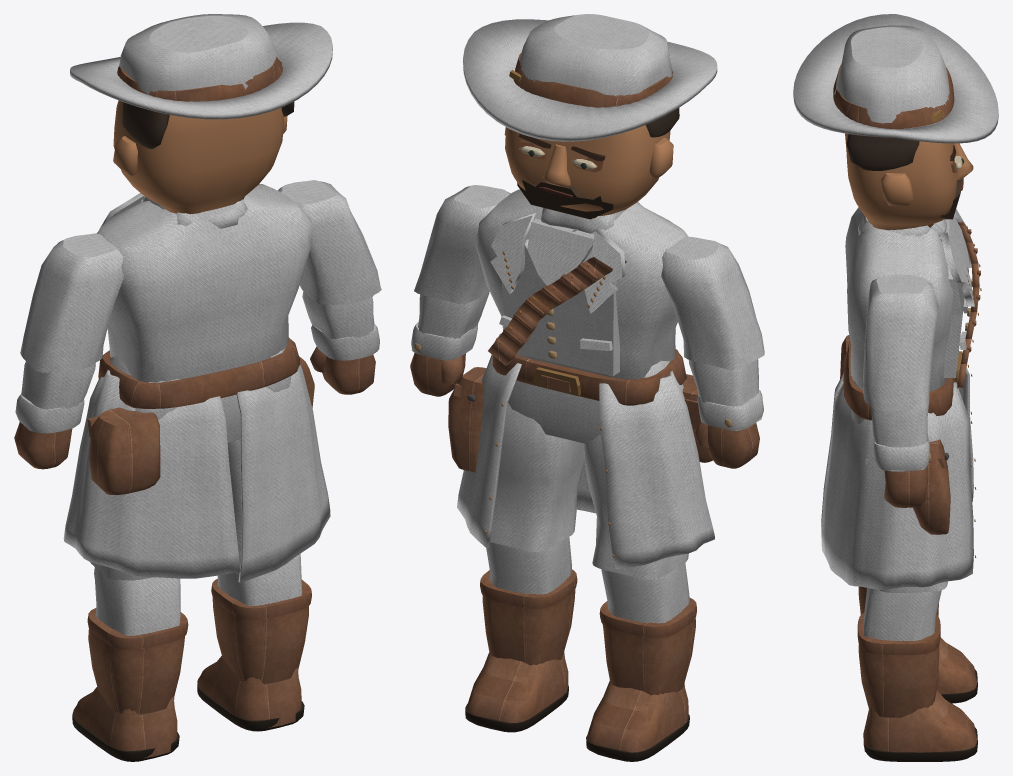
The model's file is VeteranStudio.glb.
The picture shows the model from 3 angles, left to right: view 1: azimuth 30°, elevation 25°; view 2: azimuth 150°, elevation 25°; view 3: azimuth 270°, elevation 25°; orthographic projection. The views are drawn at different scales.
Visible parts, largest first — view 1: Geo_UpperTorso, Geo_LeftCoatTail, Geo_RightCoatTail, Geo_Head, Geo_LeftUpperArm, Geo_HatCrown, Geo_HatBrim, Geo_RightUpperArm, Geo_LeftBootUpper, Geo_DispatchPouch, Geo_RightBootUpper, Geo_WaistBelt (+20 smaller); view 2: Geo_LeftCoatTail, Geo_HatBrim, Geo_UpperTorso, Geo_RightUpperLeg, Geo_LeftUpperArm, Geo_HatCrown, Geo_Head, Geo_Vest, Geo_RightUpperArm, Geo_RightCoatTail, Geo_RightFoot, Geo_LeftFoot (+28 smaller); view 3: Geo_RightCoatTail, Geo_HatBrim, Geo_RightUpperArm, Geo_HatCrown, Geo_UpperTorso, Geo_Head, Geo_RightFoot, Geo_RightBootUpper, Geo_RightLowerLeg, Geo_HipHolster, Geo_TempleHair, Geo_RightLowerArm (+15 smaller).
Part boxes in pixels (left/top/right/bottom): Geo_UpperTorso: left=96, top=184, right=312, bottom=382; Geo_LeftCoatTail: left=63, top=370, right=240, bottom=578; Geo_RightCoatTail: left=236, top=364, right=330, bottom=582; Geo_Head: left=113, top=100, right=284, bottom=214; Geo_LeftUpperArm: left=20, top=233, right=123, bottom=372; Geo_HatCrown: left=119, top=14, right=281, bottom=94; Geo_HatBrim: left=70, top=22, right=332, bottom=119; Geo_RightUpperArm: left=278, top=180, right=381, bottom=304; Geo_LeftBootUpper: left=88, top=629, right=184, bottom=714; Geo_DispatchPouch: left=89, top=407, right=160, bottom=494; Geo_RightBootUpper: left=212, top=598, right=308, bottom=684; Geo_WaistBelt: left=98, top=337, right=300, bottom=408; Geo_LeftCoatTail: left=599, top=371, right=714, bottom=568; Geo_HatBrim: left=463, top=19, right=717, bottom=141; Geo_UpperTorso: left=475, top=189, right=688, bottom=379; Geo_RightUpperLeg: left=490, top=403, right=584, bottom=551; Geo_LeftUpperArm: left=661, top=236, right=764, bottom=370; Geo_HatCrown: left=520, top=14, right=672, bottom=96; Geo_Head: left=505, top=125, right=670, bottom=218; Geo_Vest: left=501, top=238, right=620, bottom=376; Geo_RightUpperArm: left=414, top=185, right=510, bottom=304; Geo_RightCoatTail: left=457, top=333, right=595, bottom=547; Geo_RightFoot: left=467, top=651, right=568, bottom=722; Geo_LeftFoot: left=587, top=680, right=688, bottom=752; Geo_RightCoatTail: left=821, top=382, right=973, bottom=589; Geo_HatBrim: left=793, top=14, right=998, bottom=143; Geo_RightUpperArm: left=863, top=275, right=938, bottom=411; Geo_HatCrown: left=834, top=25, right=949, bottom=128; Geo_UpperTorso: left=845, top=207, right=953, bottom=391; Geo_Head: left=845, top=133, right=957, bottom=230; Geo_RightFoot: left=863, top=690, right=977, bottom=752; Geo_RightBootUpper: left=858, top=644, right=939, bottom=717; Geo_RightLowerLeg: left=863, top=588, right=941, bottom=640; Geo_HipHolster: left=913, top=439, right=950, bottom=534; Geo_TempleHair: left=846, top=134, right=919, bottom=170; Geo_RightLowerArm: left=871, top=404, right=928, bottom=471.
Size of the model in its own units: 3.01 by 5.76 by 1.6.
25 materials, 12 textured.
